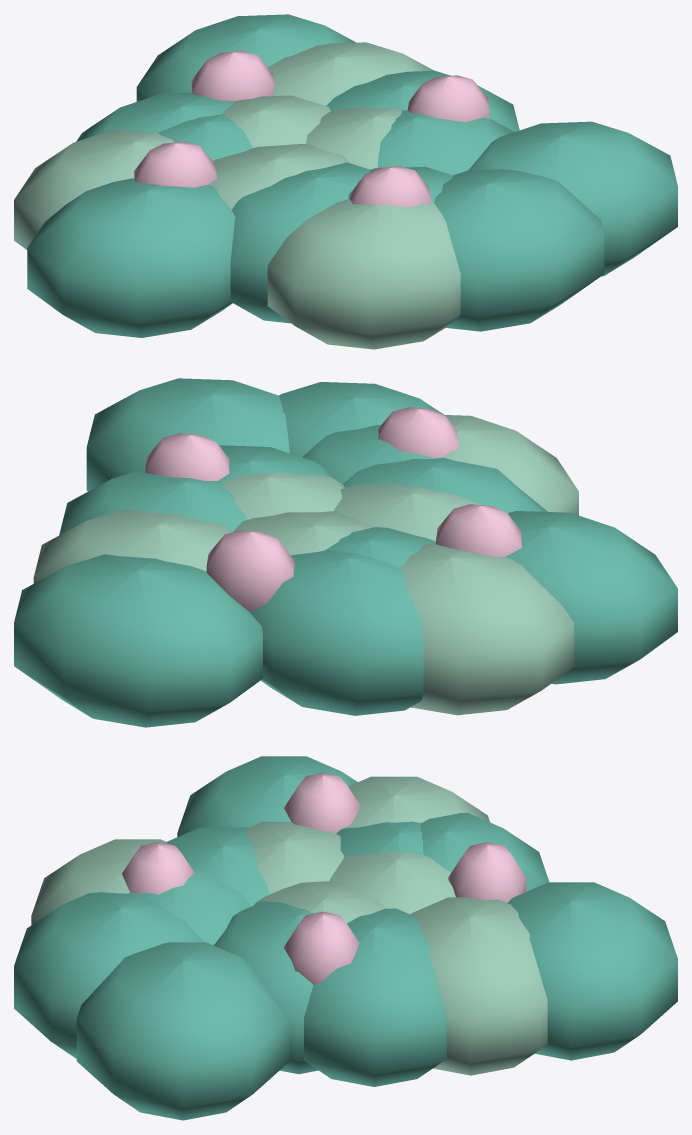
The model's file is scat_moonmoss_patch.glb.
The picture shows the model from 3 angles, top to bottom: view 1: azimuth 30°, elevation 25°; view 2: azimuth 150°, elevation 25°; view 3: azimuth 270°, elevation 25°; orthographic projection. The views are drawn at different scales.
Parts seen in each view (by area): view 1: SCAT_moonmoss_patch_tuft_4, SCAT_moonmoss_patch_tuft_15, SCAT_moonmoss_patch_tuft_10, SCAT_moonmoss_patch_tuft_5, SCAT_moonmoss_patch_tuft_7, SCAT_moonmoss_patch_tuft_11, SCAT_moonmoss_patch_tuft_9, SCAT_moonmoss_patch_tuft_3, SCAT_moonmoss_patch_tuft_13, SCAT_moonmoss_patch_tuft_12, SCAT_moonmoss_patch_tuft_6, SCAT_moonmoss_patch_tuft_0 (+8 smaller); view 2: SCAT_moonmoss_patch_tuft_11, SCAT_moonmoss_patch_tuft_14, SCAT_moonmoss_patch_tuft_9, SCAT_moonmoss_patch_tuft_4, SCAT_moonmoss_patch_tuft_5, SCAT_moonmoss_patch_tuft_3, SCAT_moonmoss_patch_tuft_8, SCAT_moonmoss_patch_tuft_15, SCAT_moonmoss_patch_tuft_10, SCAT_moonmoss_patch_tuft_7, SCAT_moonmoss_patch_flower_1, SCAT_moonmoss_patch_tuft_12 (+8 smaller); view 3: SCAT_moonmoss_patch_tuft_5, SCAT_moonmoss_patch_tuft_11, SCAT_moonmoss_patch_tuft_8, SCAT_moonmoss_patch_tuft_3, SCAT_moonmoss_patch_tuft_10, SCAT_moonmoss_patch_tuft_4, SCAT_moonmoss_patch_tuft_13, SCAT_moonmoss_patch_tuft_6, SCAT_moonmoss_patch_tuft_12, SCAT_moonmoss_patch_tuft_9, SCAT_moonmoss_patch_tuft_15, SCAT_moonmoss_patch_tuft_14 (+8 smaller).
Part boxes in pixels (x1,y1,x2,y2): SCAT_moonmoss_patch_tuft_4: (27, 178, 235, 337); SCAT_moonmoss_patch_tuft_15: (267, 199, 460, 349); SCAT_moonmoss_patch_tuft_10: (434, 169, 604, 331); SCAT_moonmoss_patch_tuft_5: (468, 121, 677, 276); SCAT_moonmoss_patch_tuft_7: (230, 162, 370, 323); SCAT_moonmoss_patch_tuft_11: (136, 14, 355, 101); SCAT_moonmoss_patch_tuft_9: (14, 129, 174, 249); SCAT_moonmoss_patch_tuft_3: (268, 42, 433, 105); SCAT_moonmoss_patch_tuft_13: (377, 110, 514, 175); SCAT_moonmoss_patch_tuft_12: (209, 143, 350, 209); SCAT_moonmoss_patch_tuft_6: (223, 95, 330, 147); SCAT_moonmoss_patch_tuft_0: (306, 107, 402, 169); SCAT_moonmoss_patch_tuft_11: (14, 554, 262, 727); SCAT_moonmoss_patch_tuft_14: (249, 550, 423, 715); SCAT_moonmoss_patch_tuft_9: (399, 542, 574, 715); SCAT_moonmoss_patch_tuft_4: (505, 511, 677, 684); SCAT_moonmoss_patch_tuft_5: (86, 378, 289, 491); SCAT_moonmoss_patch_tuft_3: (33, 509, 232, 583); SCAT_moonmoss_patch_tuft_8: (59, 468, 247, 535); SCAT_moonmoss_patch_tuft_15: (442, 415, 578, 515); SCAT_moonmoss_patch_tuft_10: (279, 382, 443, 457); SCAT_moonmoss_patch_tuft_7: (342, 458, 547, 513); SCAT_moonmoss_patch_flower_1: (206, 530, 294, 611); SCAT_moonmoss_patch_tuft_12: (334, 483, 480, 541); SCAT_moonmoss_patch_tuft_5: (76, 942, 289, 1120); SCAT_moonmoss_patch_tuft_11: (507, 882, 677, 1060); SCAT_moonmoss_patch_tuft_8: (304, 908, 446, 1086); SCAT_moonmoss_patch_tuft_3: (410, 897, 547, 1075); SCAT_moonmoss_patch_tuft_10: (14, 892, 203, 1058); SCAT_moonmoss_patch_tuft_4: (177, 756, 357, 836); SCAT_moonmoss_patch_tuft_13: (214, 901, 318, 1074); SCAT_moonmoss_patch_tuft_6: (329, 852, 455, 914); SCAT_moonmoss_patch_tuft_12: (247, 821, 343, 894); SCAT_moonmoss_patch_tuft_9: (343, 776, 489, 828); SCAT_moonmoss_patch_tuft_15: (31, 839, 167, 924); SCAT_moonmoss_patch_tuft_14: (420, 813, 549, 891).
Size of the model in its own units: 1.1 by 0.28 by 1.05.
